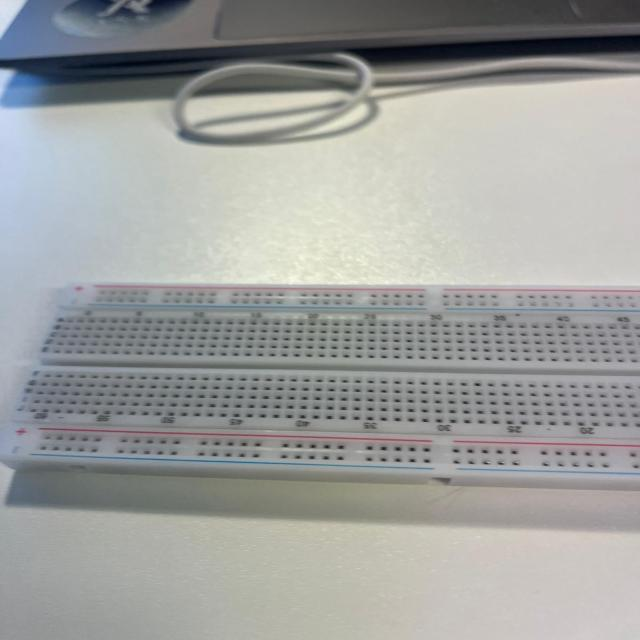BreadBoard: (63, 278, 629, 516)
